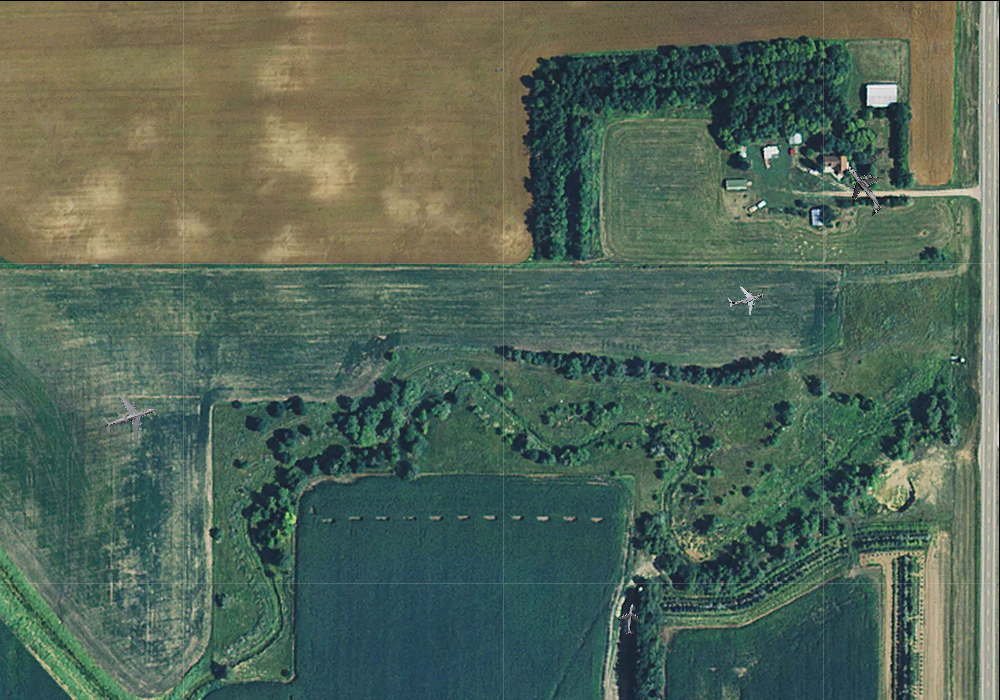plane: (827, 153, 900, 226), (96, 386, 162, 449), (723, 277, 769, 321), (614, 602, 648, 637)
